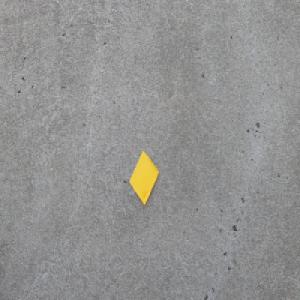PlasticPart: (128, 150, 159, 206)
